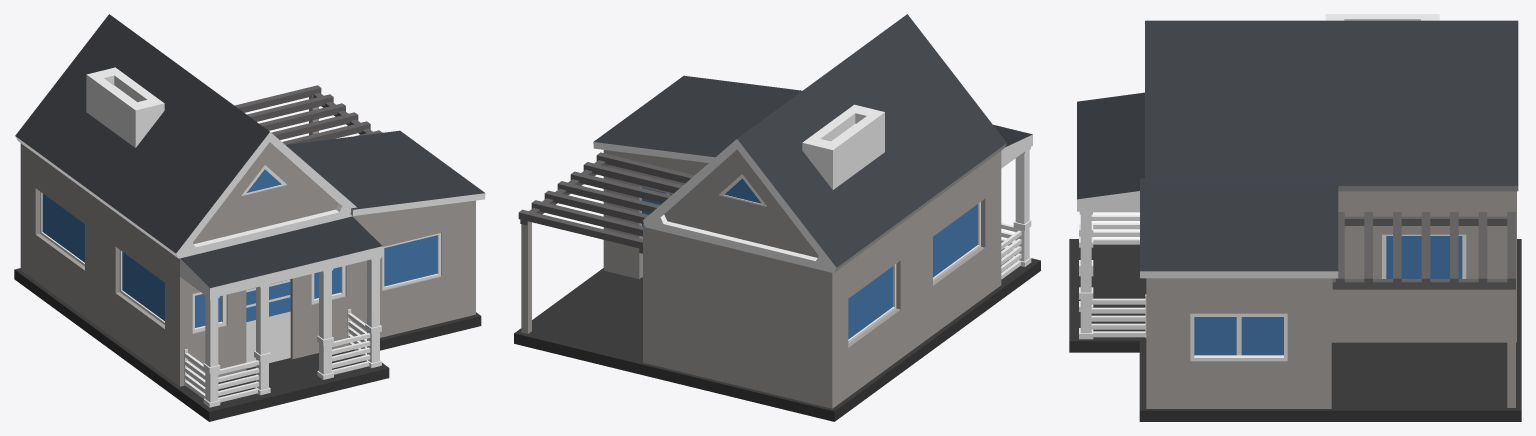
The model's file is House_1.fbx.
The picture shows the model from 3 angles, left to right: view 1: azimuth 30°, elevation 25°; view 2: azimuth 150°, elevation 25°; view 3: azimuth 270°, elevation 25°; orthographic projection. The views are drawn at different scales.
Parts seen in each view (by area): view 1: House_1; view 2: House_1; view 3: House_1.
Part boxes in pixels (box(x1,y1,x2,y2)): House_1: box(14, 14, 485, 421); House_1: box(514, 14, 1040, 421); House_1: box(1069, 14, 1521, 421).
Size of the model in its own units: 866 by 656 by 951.
